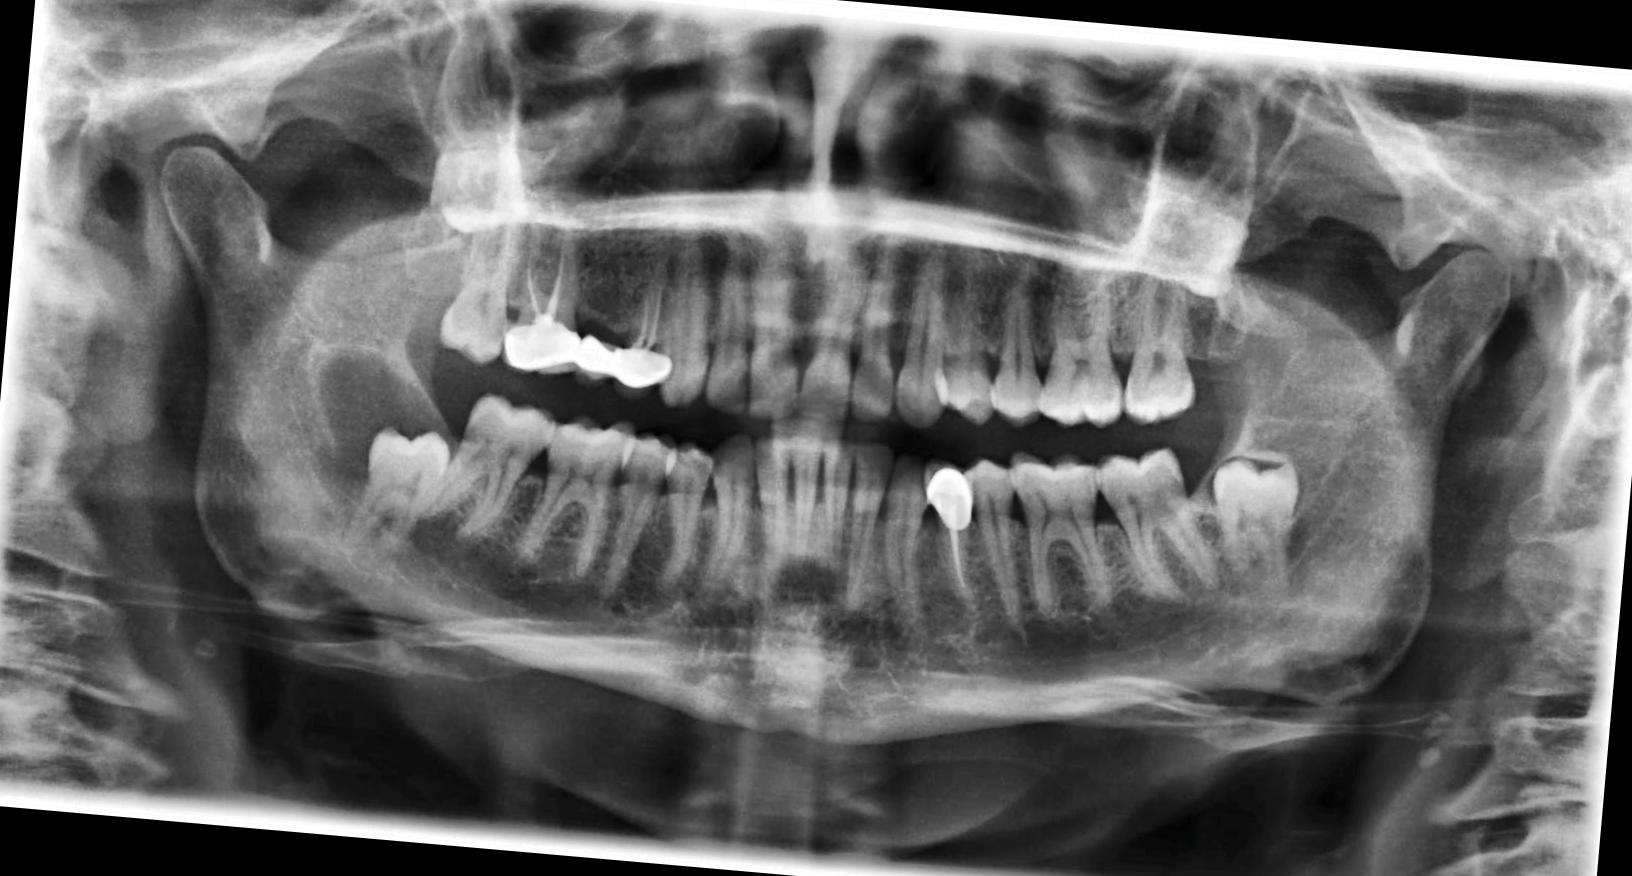dentigeroz: (303, 340, 472, 502)
